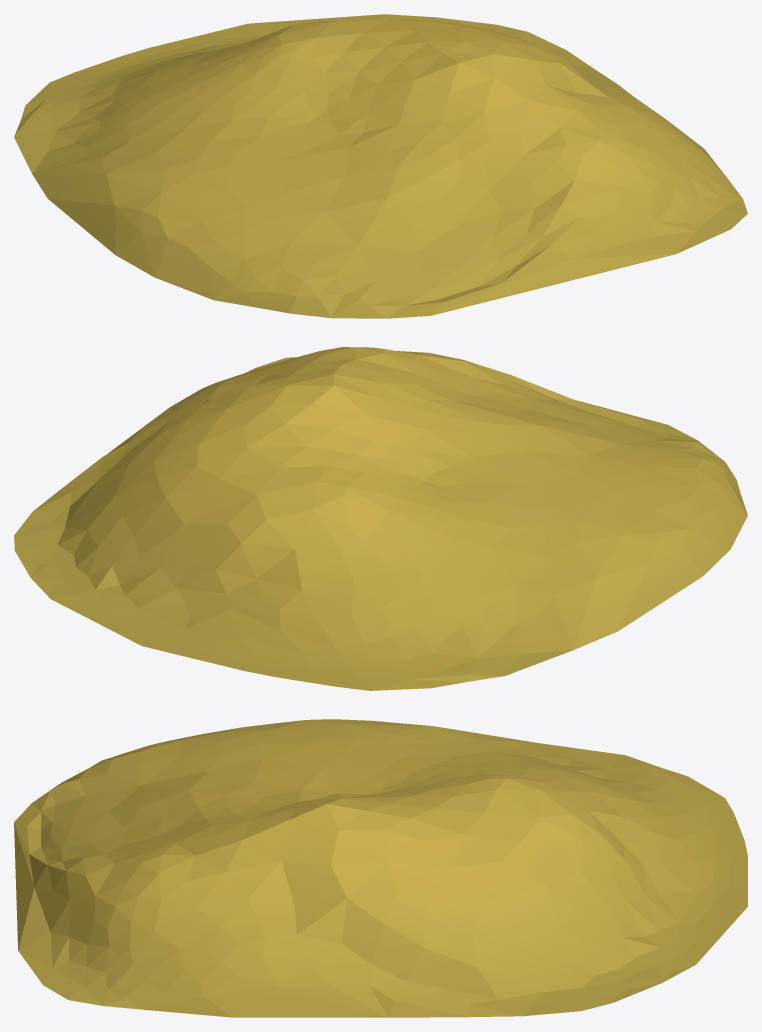
File: Hill_09.glb
3 views of the same model, one above another, from view 1: azimuth 30°, elevation 25°; view 2: azimuth 150°, elevation 25°; view 3: azimuth 270°, elevation 25° (orthographic). The views are drawn at different scales.
Parts seen in each view (by area): view 1: Hill_09; view 2: Hill_09; view 3: Hill_09.
Boxes of the visible parts, box(x1,y1,x2,y2) form: Hill_09: box(14, 14, 747, 318); Hill_09: box(14, 347, 747, 690); Hill_09: box(14, 719, 747, 1017).
Bounding box in the file's own units: 56.23 × 10.09 × 61.
1 material, 1 textured.
